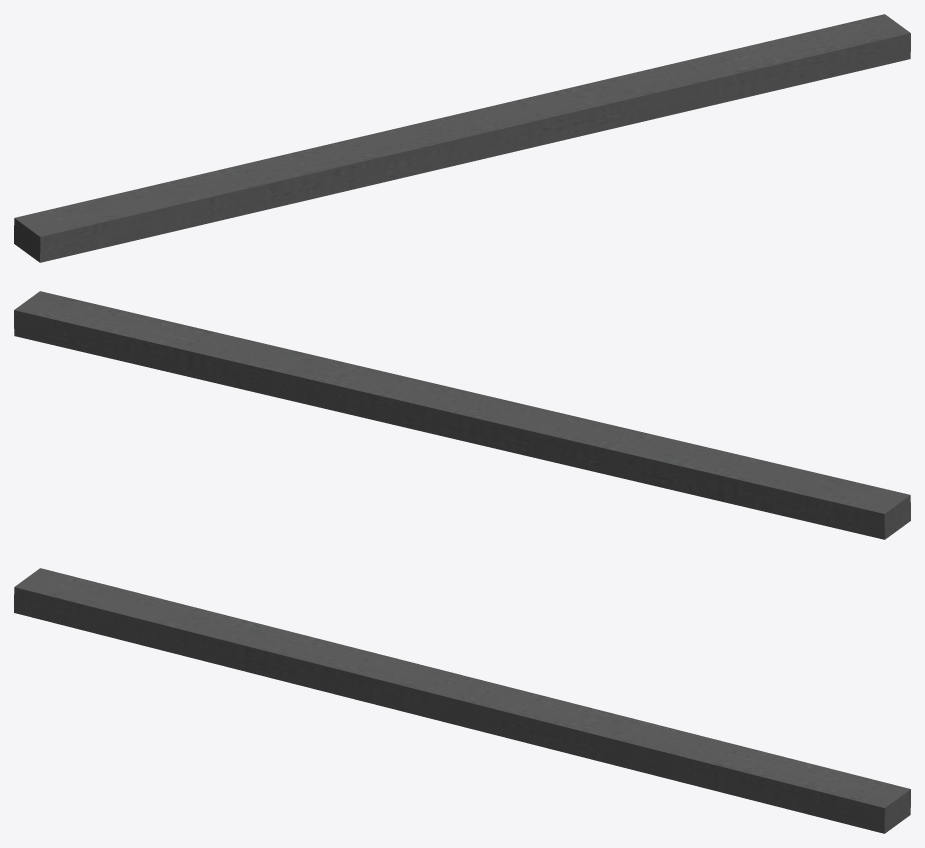
The model's file is frame__side_rail_0.glb.
3 renders of one model, top to bottom at view 1: azimuth 30°, elevation 25°; view 2: azimuth 150°, elevation 25°; view 3: azimuth 330°, elevation 25°, orthographic.
Visible parts, largest first — view 1: world; view 2: world; view 3: world.
Boxes of the visible parts, box(x1,y1,x2,y2) form: world: box(14, 14, 910, 262); world: box(14, 291, 910, 539); world: box(14, 568, 910, 833).
Bounding box in the file's own units: 1.06 × 0.04 × 0.055.
Materials: 1 (1 with a texture image).
